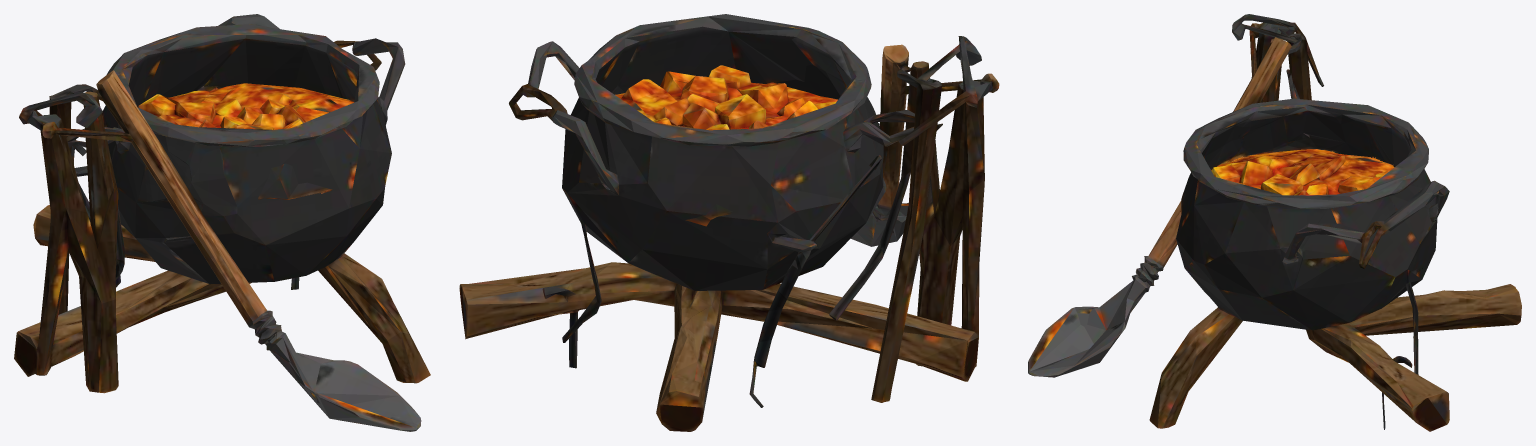
Rendered from ogre_cook_pot_01.glb.
3 views of the same model, side by side, from view 1: azimuth 30°, elevation 25°; view 2: azimuth 150°, elevation 25°; view 3: azimuth 270°, elevation 25° (orthographic). The views are drawn at different scales.
Visible parts, largest first — view 1: geometry_0; view 2: geometry_0; view 3: geometry_0.
Boxes of the visible parts, left/top/right/bottom form: geometry_0: left=14, top=14, right=430, bottom=431; geometry_0: left=459, top=14, right=999, bottom=431; geometry_0: left=1028, top=14, right=1521, bottom=431.
Bounding box in the file's own units: 0.8708 × 0.6437 × 0.9974.
Materials: 1 (1 with a texture image).
